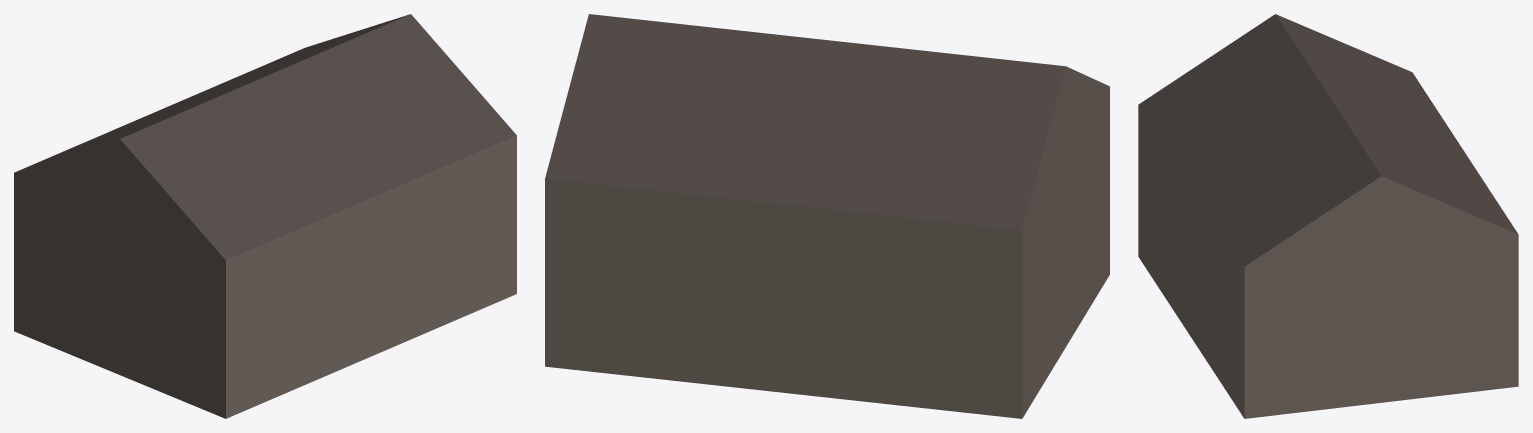
The picture shows the model from 3 angles, left to right: view 1: azimuth 30°, elevation 25°; view 2: azimuth 150°, elevation 25°; view 3: azimuth 270°, elevation 25°; orthographic projection. The views are drawn at different scales.
Visible parts, largest first — view 1: HP-w1200835417; view 2: HP-w1200835417; view 3: HP-w1200835417.
Boxes of the visible parts, <box> form: HP-w1200835417: <box>14,14,516,418</box>; HP-w1200835417: <box>545,14,1109,418</box>; HP-w1200835417: <box>1138,14,1518,418</box>.
Bounding box in the file's own units: 16.45 × 8.93 × 13.58.
